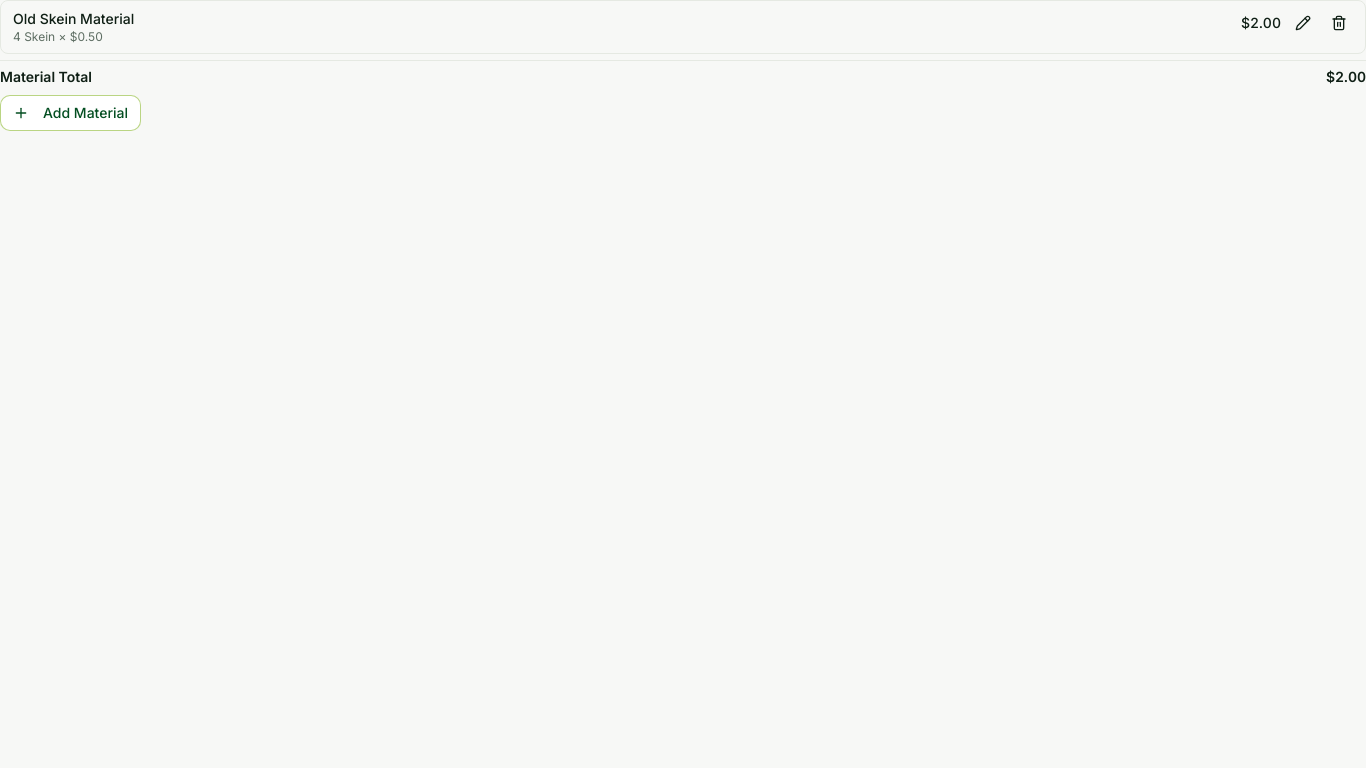
Work Task material editor unit dropdown › keeps a historical snapshot unit selectable and saves the chosen text unchanged
Later steps or results of the test are not shown.
Click the button named "Edit Old Skein Material" at point(1303, 23), box [1289,9,1317,37]
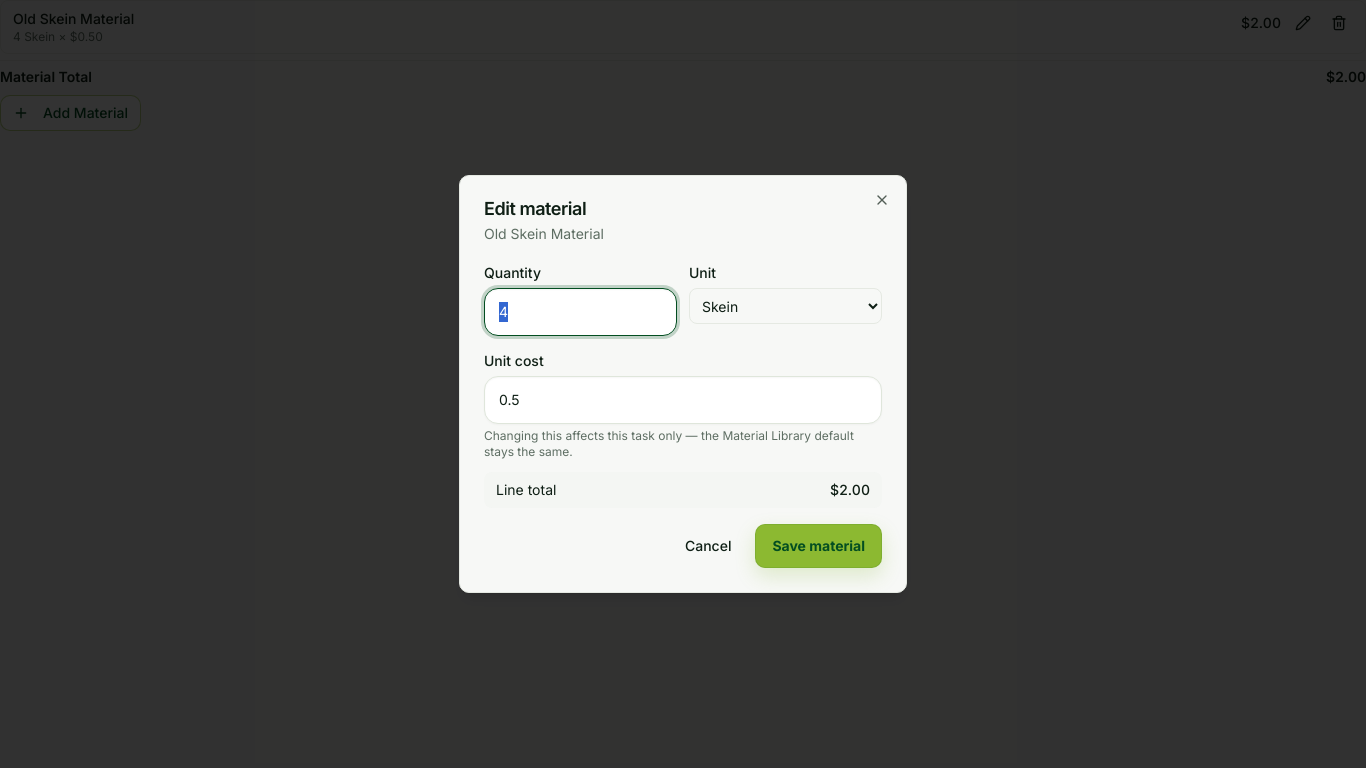
Expected: the dropdown labelled "Unit" shows "Skein", [689,288,882,324]
